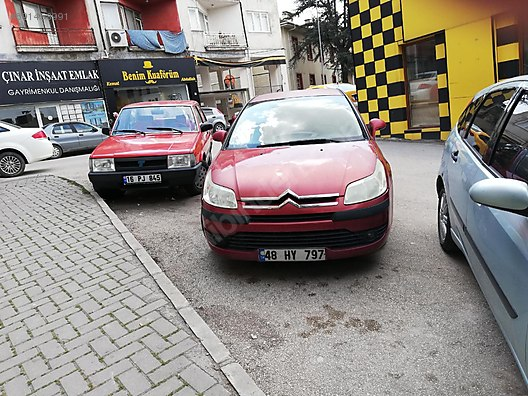citroen: (199, 83, 397, 275)
